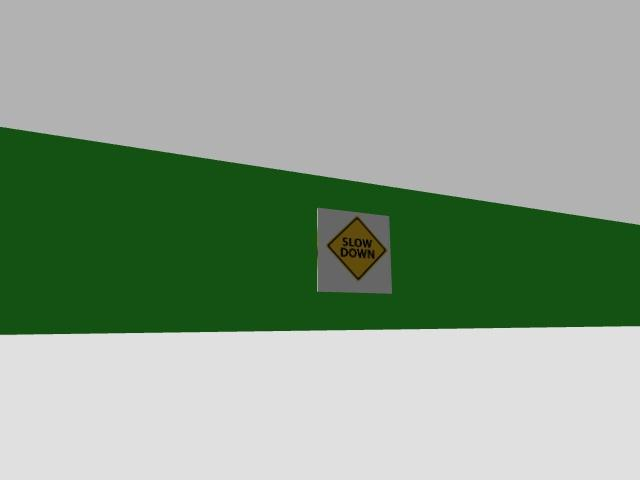slowsign: (317, 208, 391, 293)
